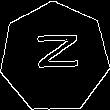N_W: (29, 36, 80, 79)
